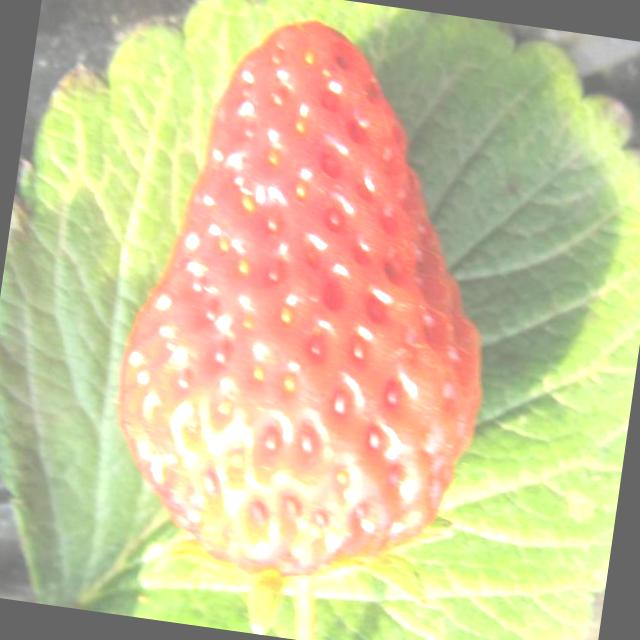Strawberry: (83, 0, 531, 640)
